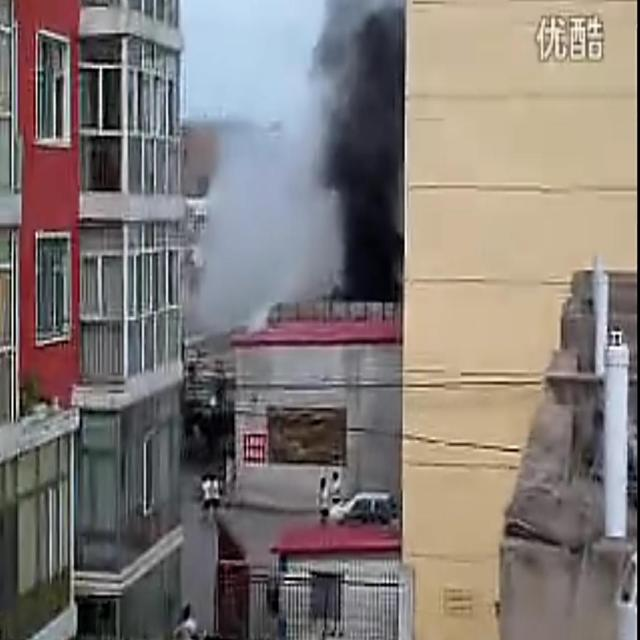smoke: (191, 0, 406, 328)
